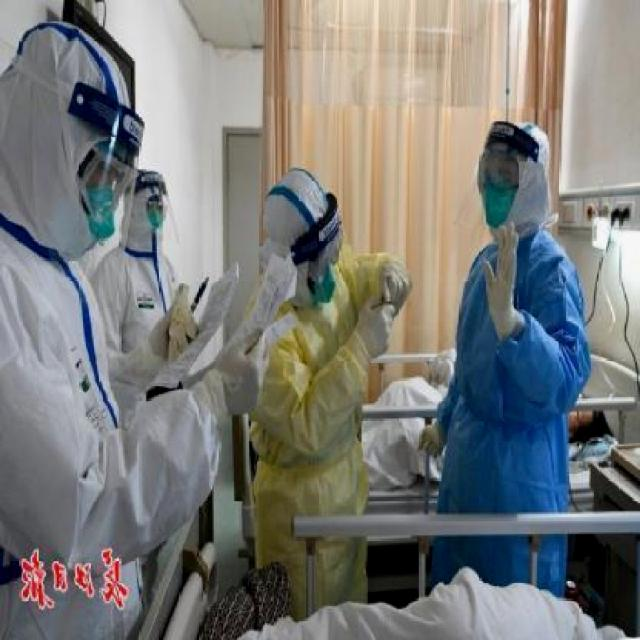face_mask: (476, 156, 526, 227)
hand_glove: (218, 326, 272, 422), (478, 219, 520, 323), (149, 305, 205, 369), (360, 294, 398, 366), (382, 259, 412, 306), (417, 417, 448, 461)
person: (1, 24, 148, 640), (248, 132, 423, 594), (442, 105, 592, 609), (99, 163, 223, 555)
